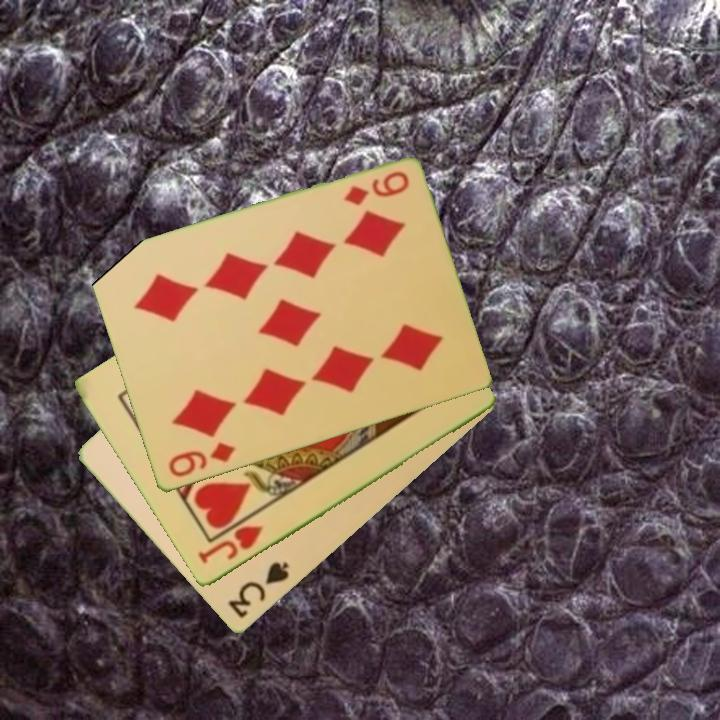3s: (224, 558, 292, 622)
9d: (165, 438, 238, 481), (340, 168, 412, 210)
Jh: (194, 522, 267, 567)
